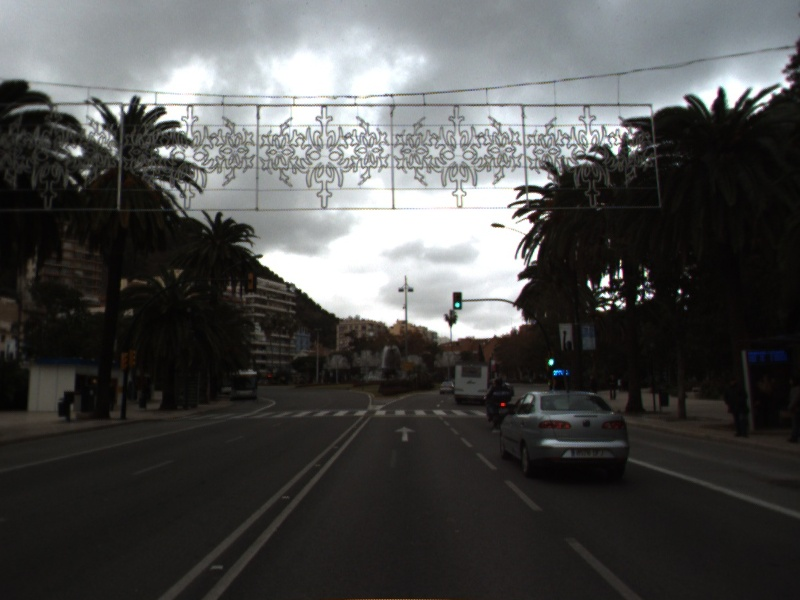STRAIGHT: (392, 424, 418, 443)
